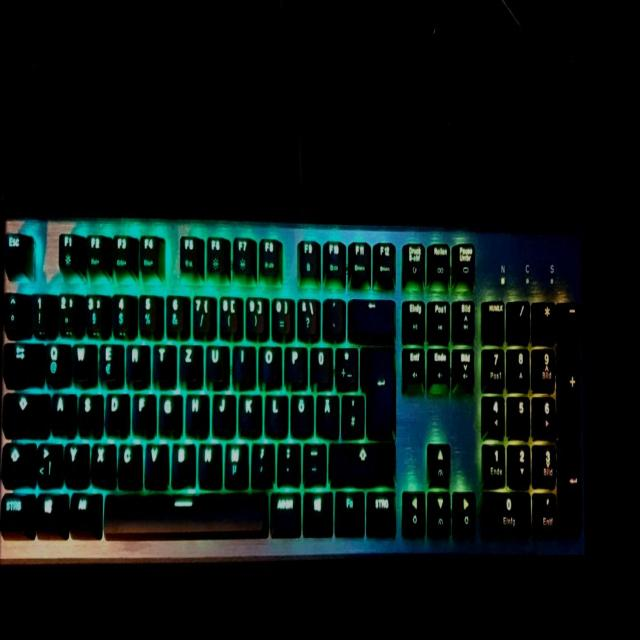0: (270, 293, 292, 335)
1: (28, 290, 48, 329)
2: (56, 291, 76, 330)
3: (83, 290, 103, 331)
4: (110, 290, 129, 331)
5: (137, 290, 157, 332)
6: (165, 290, 185, 332)
7: (192, 291, 212, 333)
8: (218, 291, 239, 333)
9: (244, 292, 265, 334)
a: (49, 388, 68, 431)
accent: (322, 294, 343, 333)
ae: (315, 390, 336, 431)
alt-left: (67, 488, 94, 530)
altgr-right: (268, 486, 298, 530)
b: (170, 438, 191, 481)
c: (116, 439, 136, 481)
caret: (1, 288, 21, 328)
comma: (250, 438, 271, 480)
d: (103, 389, 123, 431)
del: (349, 295, 393, 333)
e: (97, 339, 117, 381)
enter: (360, 341, 393, 431)
f: (132, 389, 150, 431)
g: (157, 389, 176, 432)
h: (184, 389, 204, 431)
hash: (341, 389, 362, 432)
i: (231, 340, 251, 381)
j: (211, 388, 231, 431)
k: (238, 389, 259, 432)
keyboard: (0, 212, 595, 564)
l: (264, 389, 285, 431)
less: (34, 437, 54, 483)
m: (223, 437, 245, 482)
minus: (302, 438, 323, 480)
n: (196, 438, 217, 481)
o: (257, 341, 278, 382)
oe: (289, 390, 311, 432)
p: (284, 341, 304, 382)
plus: (335, 342, 355, 384)
point: (276, 437, 297, 479)
q: (42, 338, 63, 380)
r: (125, 340, 145, 382)
s: (77, 389, 96, 432)
shift-left: (0, 439, 27, 481)
shift-lock: (1, 389, 42, 432)
shift-right: (329, 438, 394, 480)
space: (101, 487, 265, 532)
ss: (296, 294, 318, 334)
strg-left: (0, 489, 26, 530)
strg-right: (365, 485, 395, 531)
t: (151, 339, 170, 381)
tab: (1, 338, 35, 379)
u: (204, 341, 224, 383)
ue: (309, 342, 330, 382)
v: (143, 438, 163, 479)
w: (70, 339, 89, 380)
x: (89, 439, 109, 482)
y: (62, 439, 81, 481)
z: (178, 340, 197, 382)
